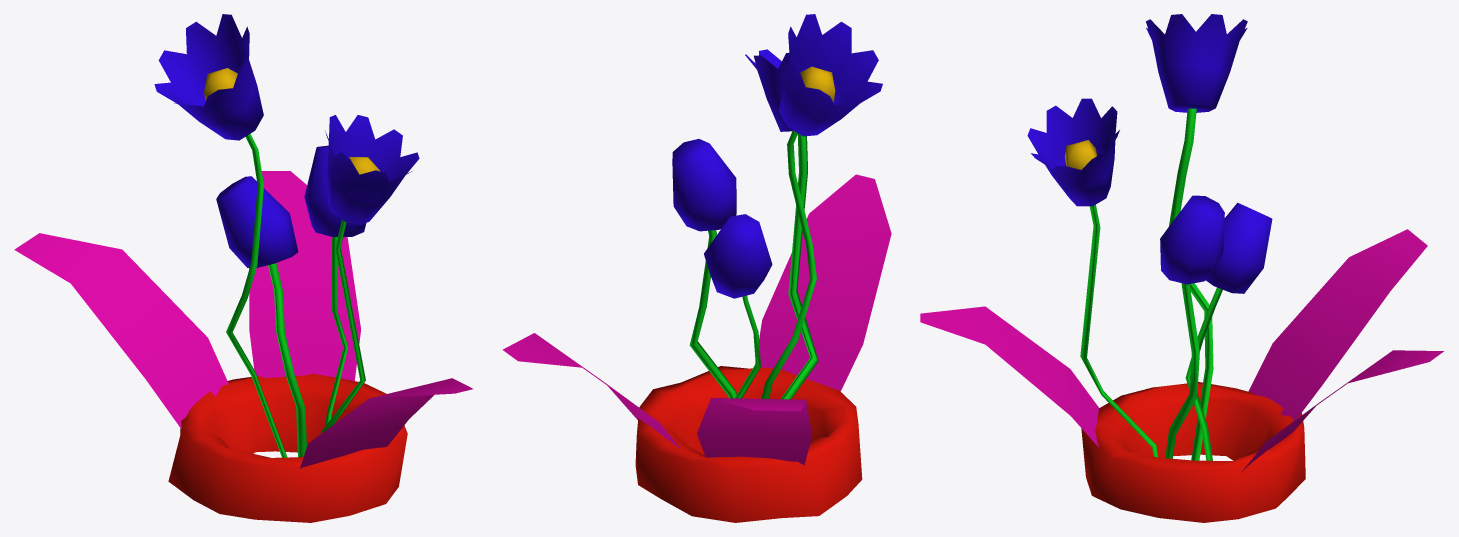
The model's file is flower1.fbx.
3 renders of one model, left to right at view 1: azimuth 30°, elevation 25°; view 2: azimuth 150°, elevation 25°; view 3: azimuth 270°, elevation 25°, orthographic. The views are drawn at different scales.
Visible parts, largest first — view 1: Flower; view 2: Flower; view 3: Flower.
Part boxes in pixels (x1,y1,x2,y2): Flower: [14, 14, 472, 522]; Flower: [502, 14, 891, 522]; Flower: [920, 14, 1443, 522].
Size of the model in its own units: 42.55 by 63.86 by 68.32.
